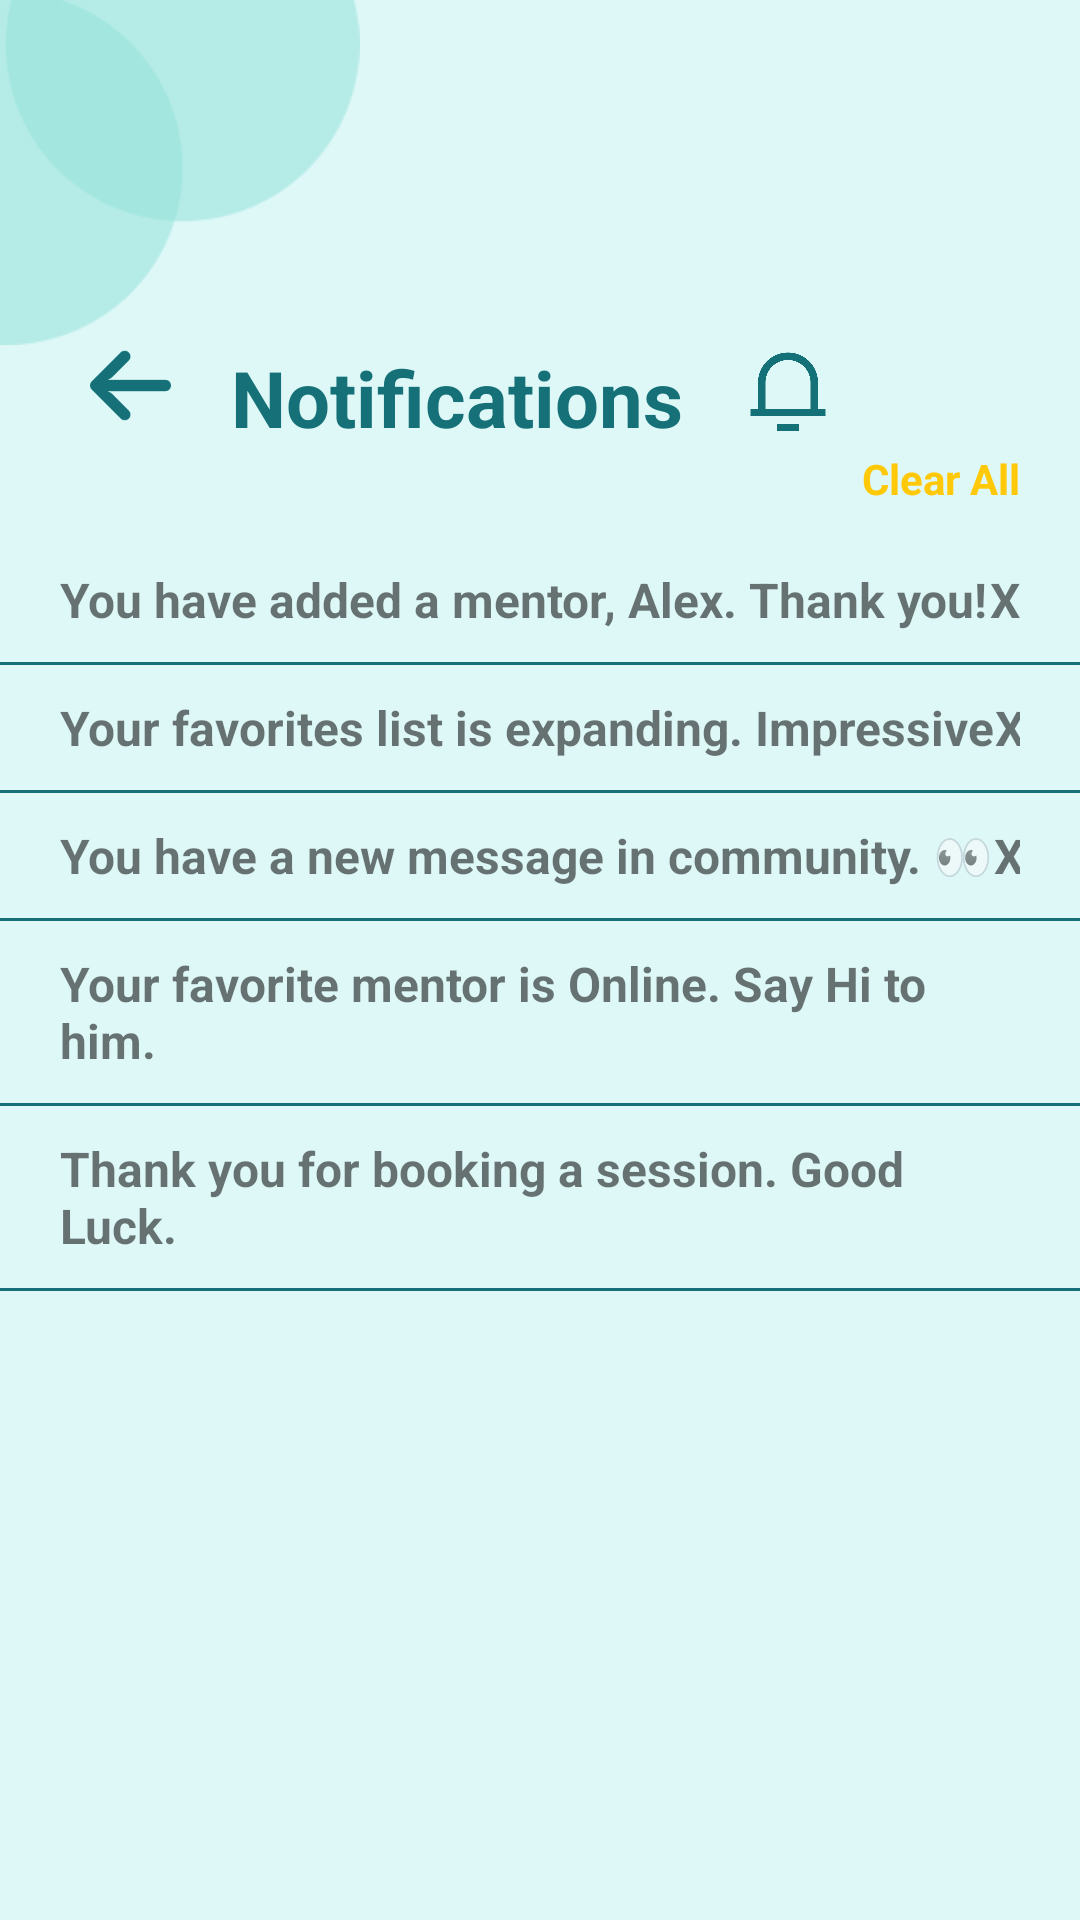

Screen size 1080px x 1920px. Icon name, then its box in pixels as (x1, y1, x2, y2):
arrow: (90, 350, 171, 421)
belll: (750, 352, 826, 431)
